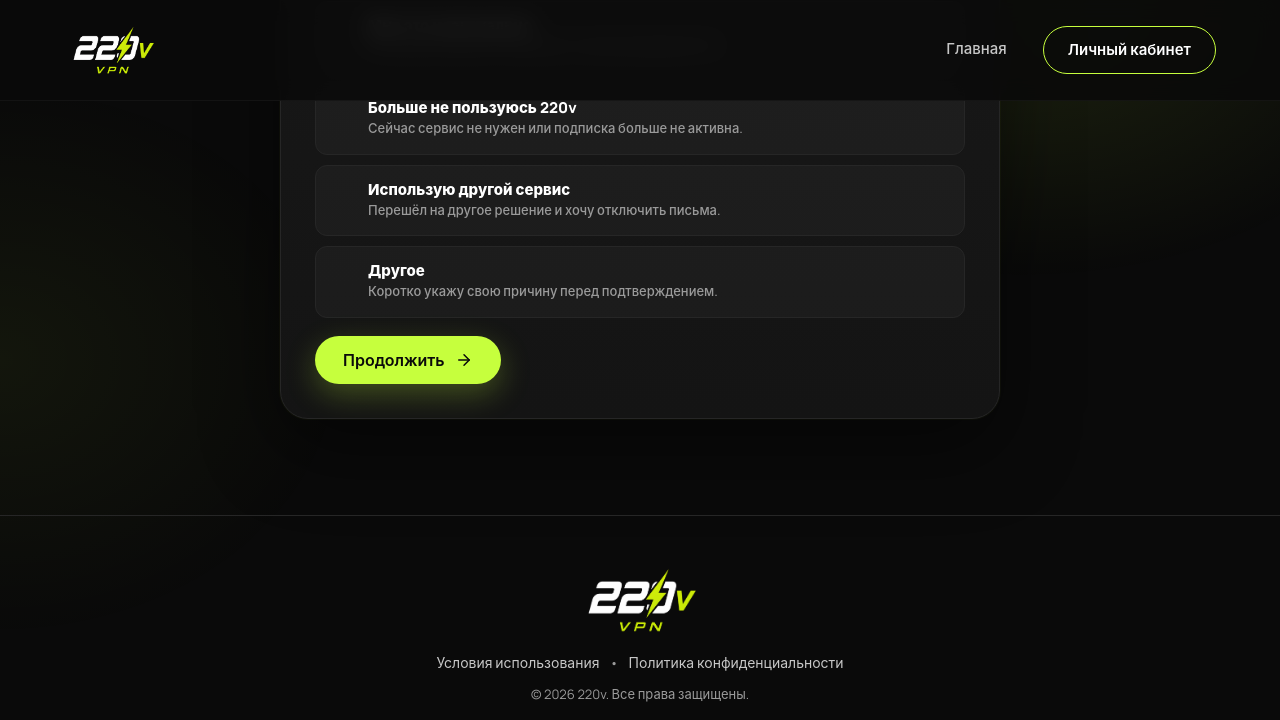
Test case: UnsubscribeEmail › requires a reason before opening confirmation
(page scrolled)
Click the button "Продолжить" at (408, 360), box [315,336,501,384]
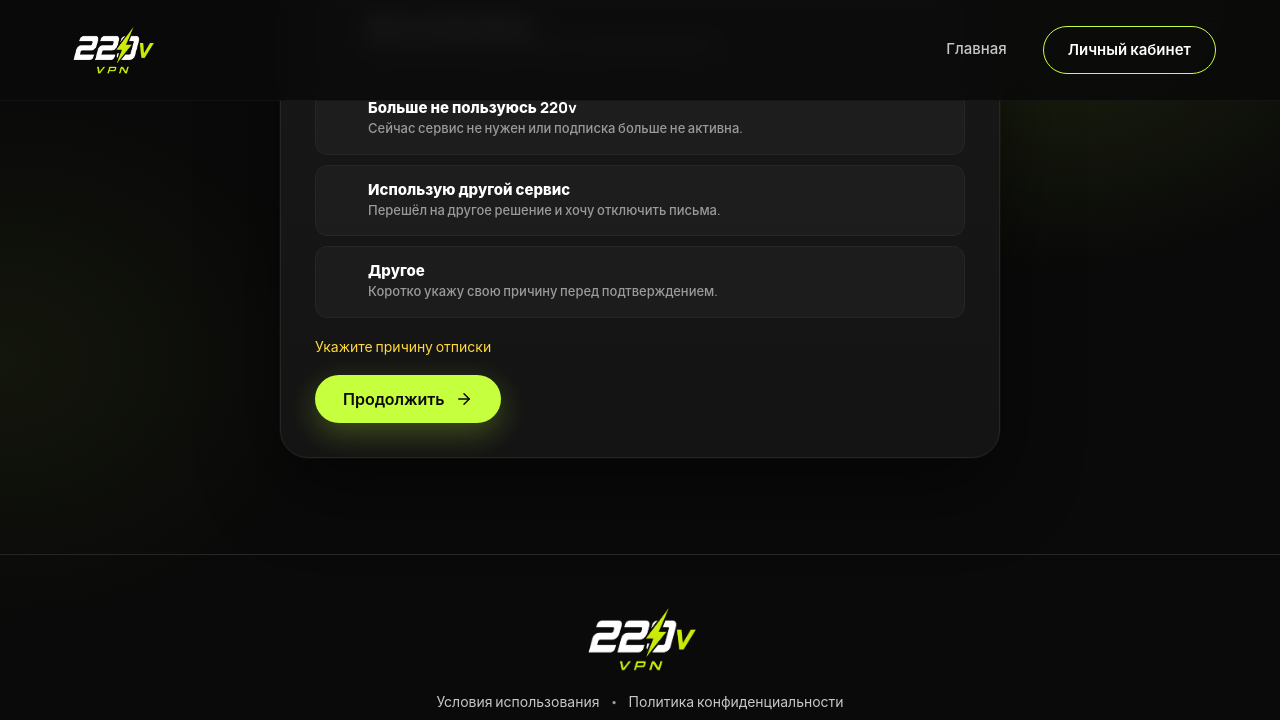
Expected: the text "Укажите причину отписки" is shown, [315,337,491,356]
